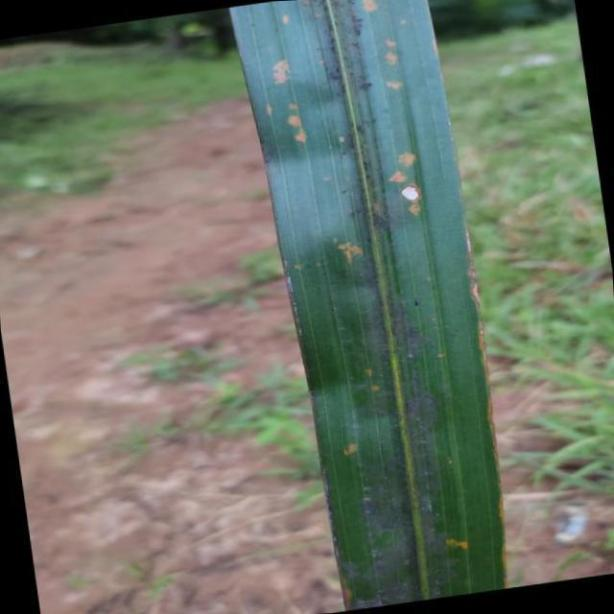Kalium: (229, 0, 507, 603)
